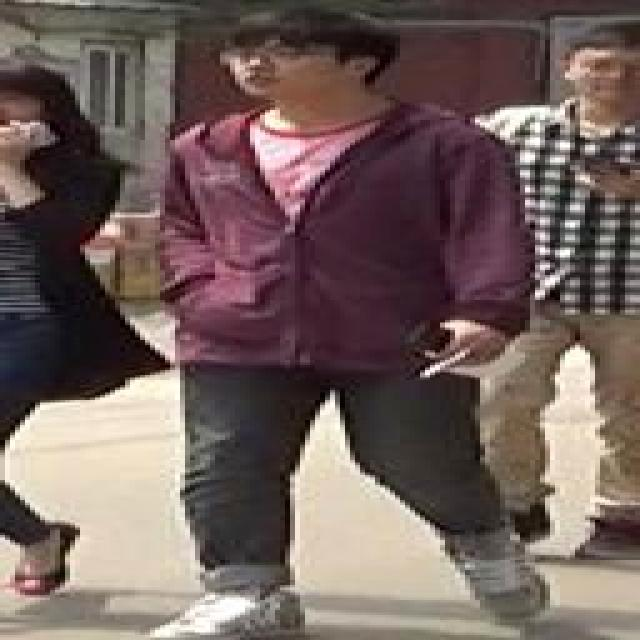adult: (154, 12, 556, 640), (456, 18, 640, 551), (0, 72, 105, 572)
